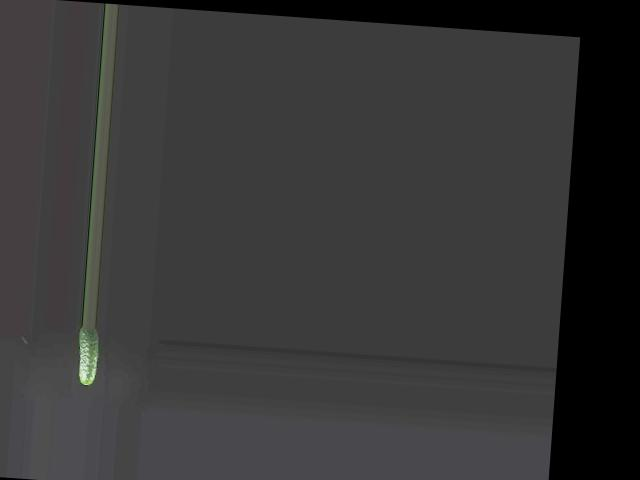cucumber: (74, 325, 99, 385)
